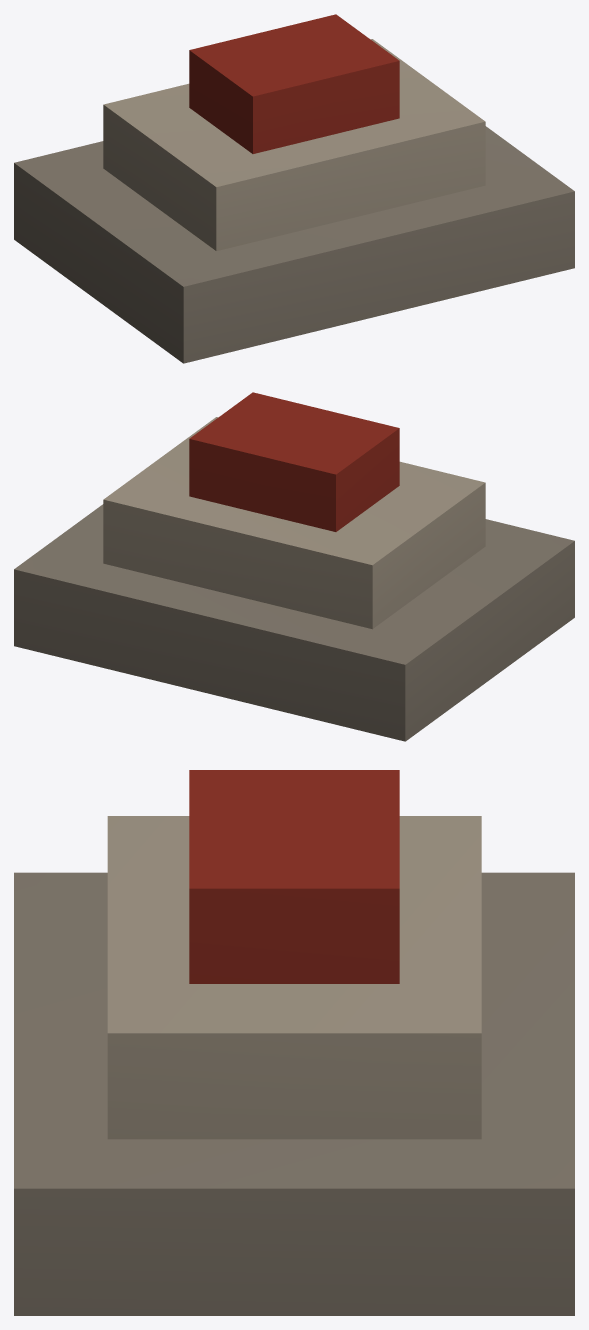
The model's file is wari_altar_lod1.glb.
3 renders of one model, top to bottom at view 1: azimuth 30°, elevation 25°; view 2: azimuth 150°, elevation 25°; view 3: azimuth 270°, elevation 25°, orthographic. The views are drawn at different scales.
Visible parts, largest first — view 1: GEO-Arch_wari_altar_LOD1; view 2: GEO-Arch_wari_altar_LOD1; view 3: GEO-Arch_wari_altar_LOD1.
Part boxes in pixels (left/top/right/bottom): GEO-Arch_wari_altar_LOD1: left=14, top=14, right=574, bottom=363; GEO-Arch_wari_altar_LOD1: left=14, top=392, right=574, bottom=741; GEO-Arch_wari_altar_LOD1: left=14, top=770, right=574, bottom=1315.
Bounding box in the file's own units: 3.2 × 1.55 × 2.4.
